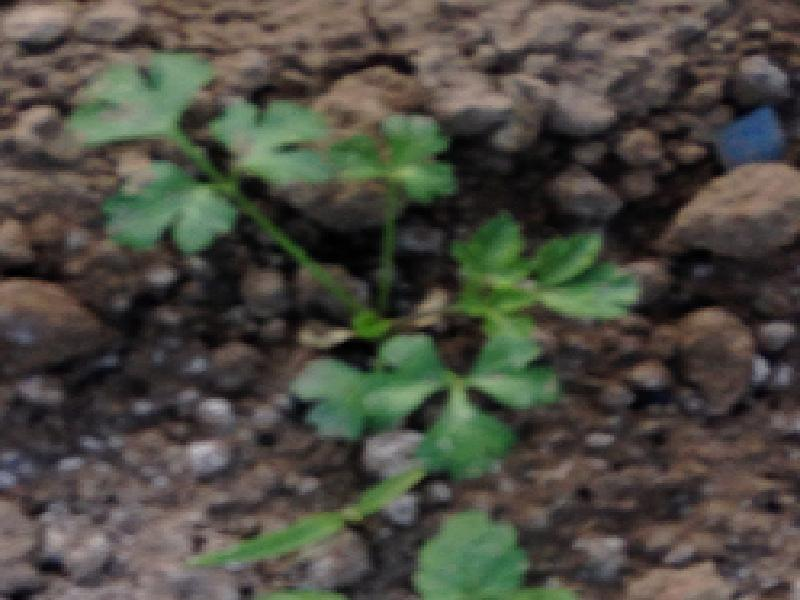radish: (68, 50, 653, 600)
